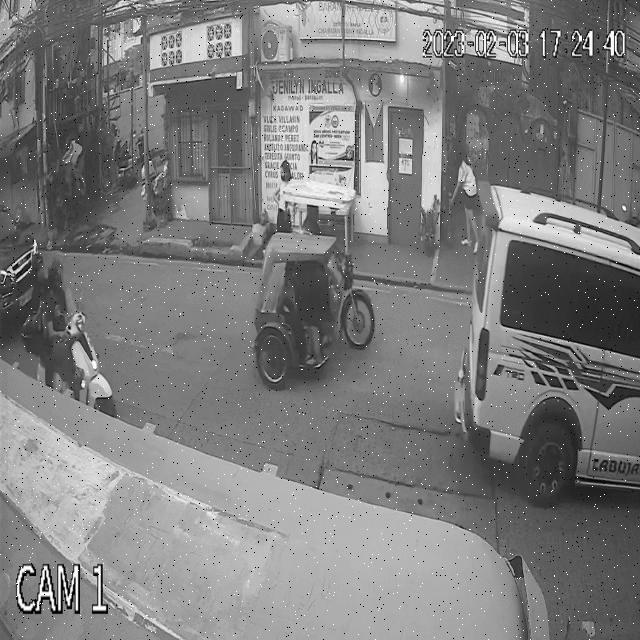garbage_dumping: (445, 224, 458, 250)
